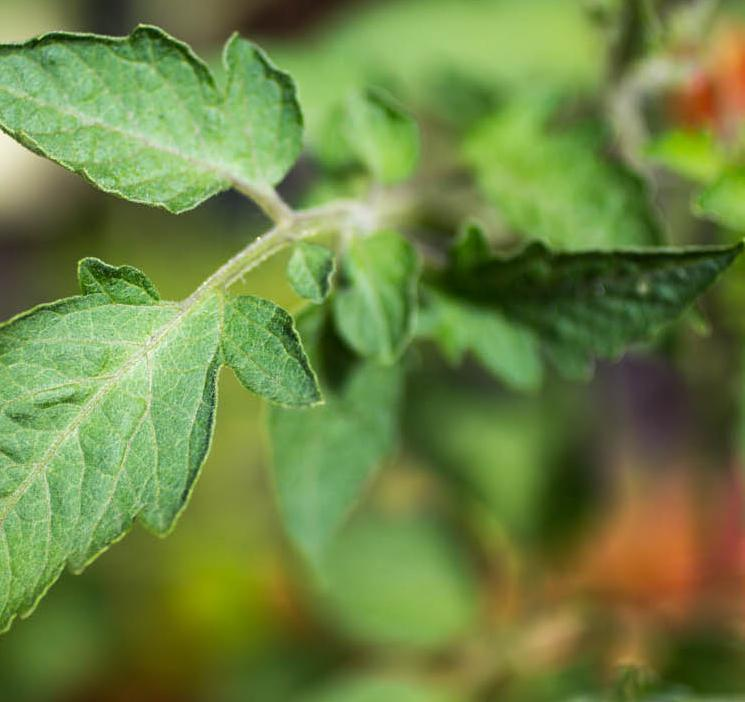Tomato leaf: (0, 262, 261, 702), (0, 3, 352, 216)
